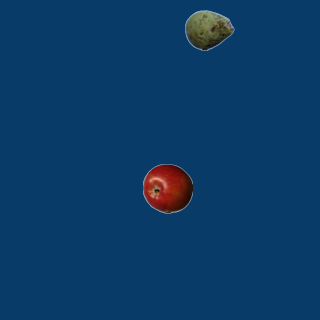Apple Braeburn: (142, 163, 192, 213)
Pear Stone: (184, 5, 234, 55)
